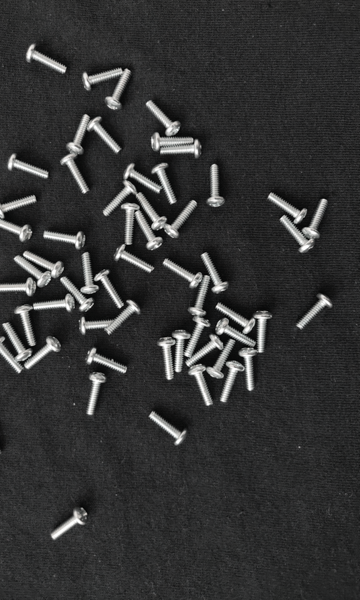shortscrew: (87, 116, 124, 155), (149, 412, 190, 446), (297, 293, 334, 330), (164, 201, 200, 239), (25, 44, 69, 75), (103, 180, 139, 217), (186, 333, 224, 368), (216, 303, 256, 336), (60, 154, 91, 196), (60, 277, 96, 313), (147, 100, 182, 137), (281, 216, 315, 254), (163, 258, 204, 289), (106, 299, 141, 335), (51, 506, 88, 540), (24, 336, 62, 369), (268, 193, 308, 224), (201, 252, 230, 294), (14, 257, 53, 288), (188, 275, 216, 318), (94, 269, 124, 309), (123, 163, 163, 193), (207, 340, 237, 380), (114, 245, 155, 274), (106, 68, 133, 112), (188, 365, 215, 409), (137, 193, 168, 231), (2, 323, 32, 362), (152, 162, 179, 205), (85, 348, 129, 374), (135, 212, 164, 251), (184, 317, 211, 358), (23, 252, 65, 278), (219, 361, 245, 403), (302, 199, 328, 240), (82, 67, 125, 91), (156, 337, 177, 384), (8, 154, 49, 178), (15, 305, 37, 347), (67, 115, 90, 155), (0, 194, 38, 218), (171, 330, 192, 373), (86, 372, 106, 415), (207, 165, 227, 208), (44, 231, 87, 251), (0, 336, 23, 373), (161, 140, 203, 160), (0, 218, 33, 243), (34, 293, 75, 313), (151, 133, 194, 152), (254, 310, 273, 353), (121, 203, 140, 246), (81, 252, 100, 294), (239, 347, 257, 391), (0, 278, 37, 296), (79, 318, 115, 336), (0, 415, 4, 459)
